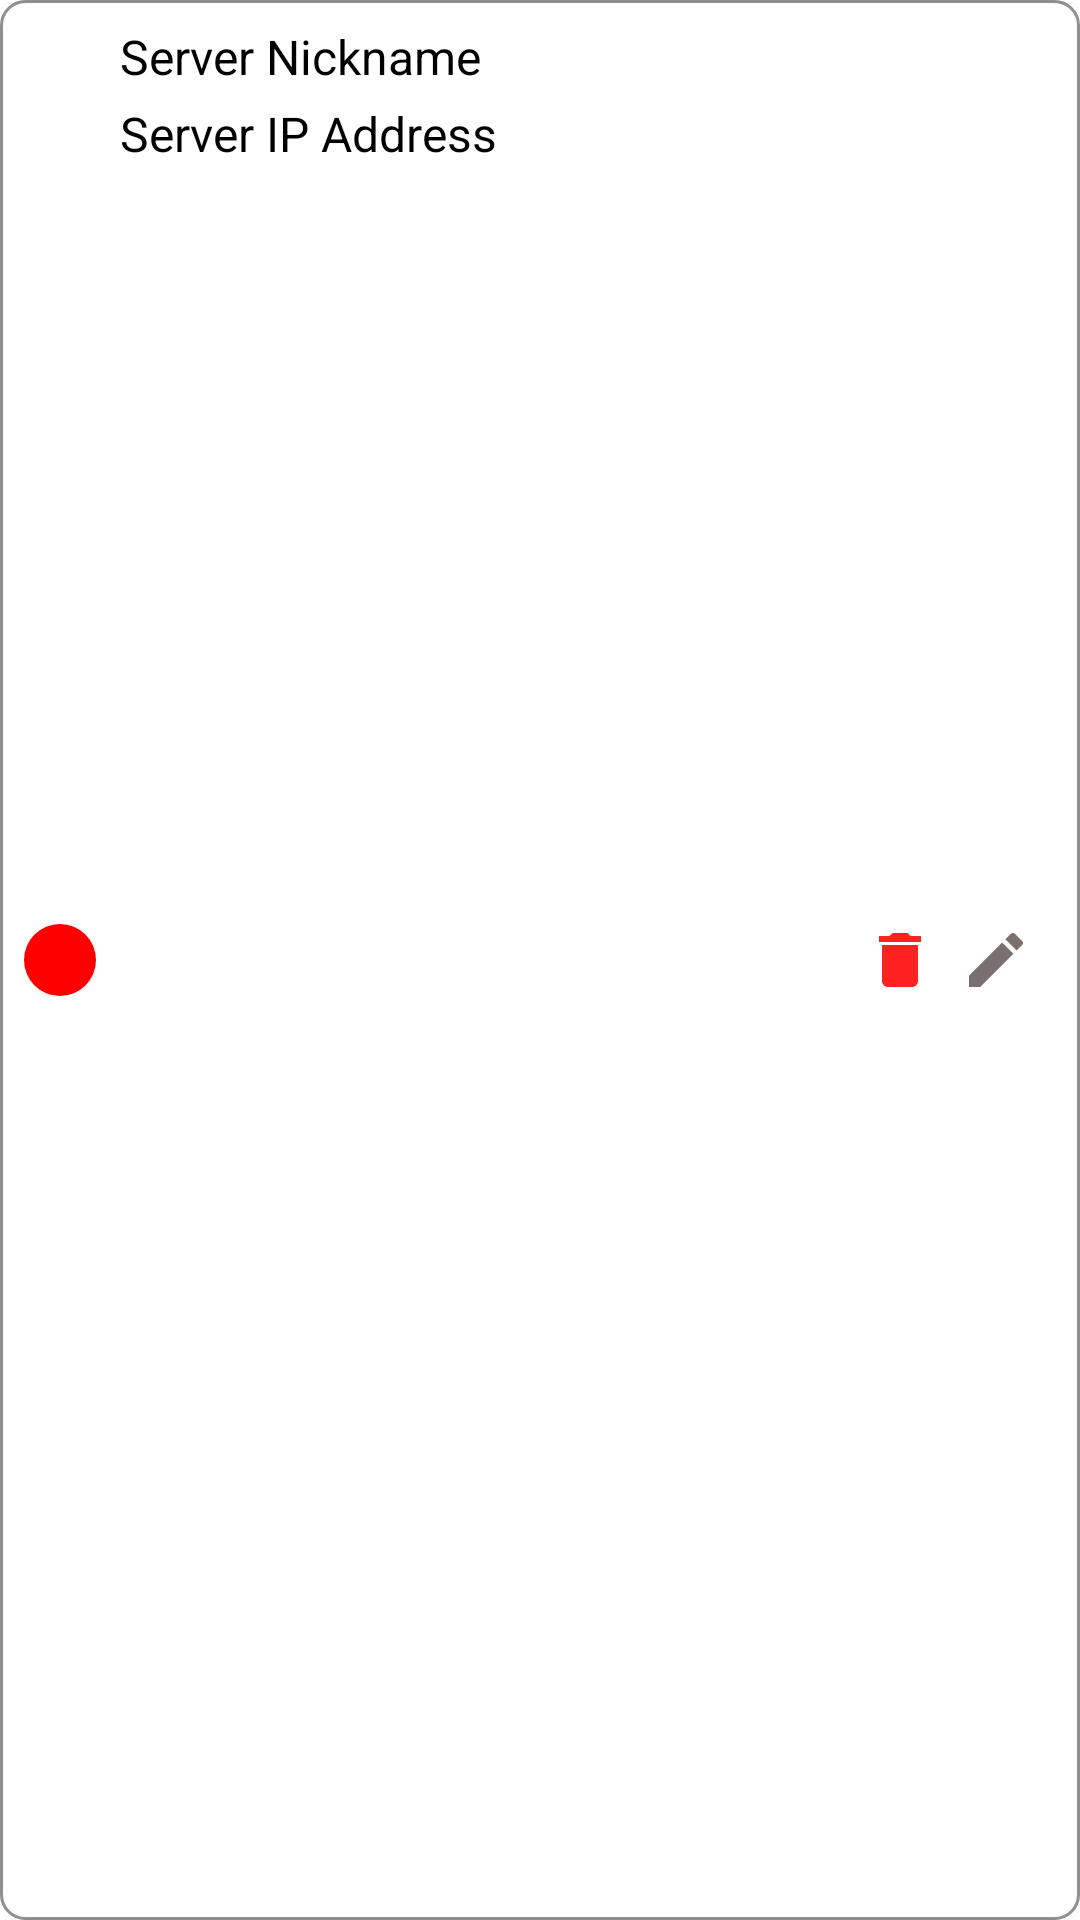

Icon click points for this 1080 x 1920 phone screenshot, format (x,y):
Delete: (900,960)
Edit: (996,960)
